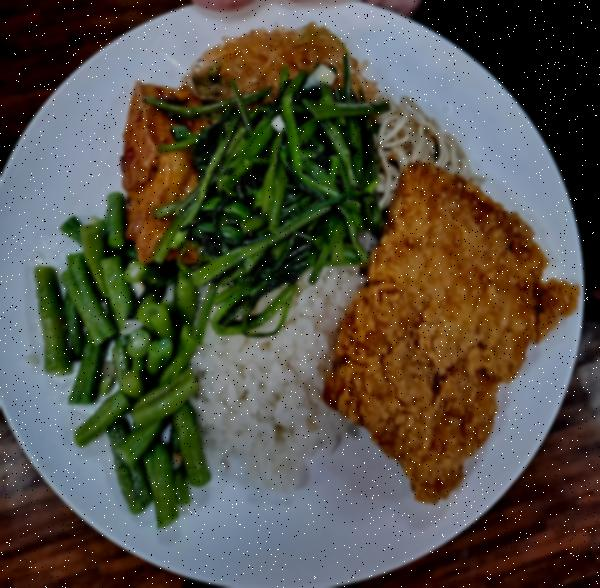kara chicken leg steak: (318, 156, 572, 509)
plate: (0, 6, 590, 588)
side dish: (27, 223, 201, 518), (185, 88, 360, 308), (100, 82, 198, 247), (188, 18, 353, 98), (368, 86, 464, 174)
white rice: (190, 274, 352, 497)
